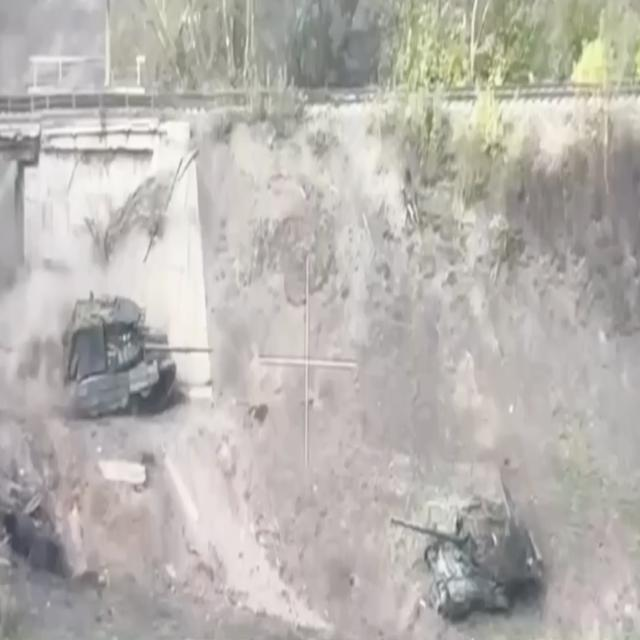vehicle: (389, 491, 543, 624), (62, 296, 212, 421)
